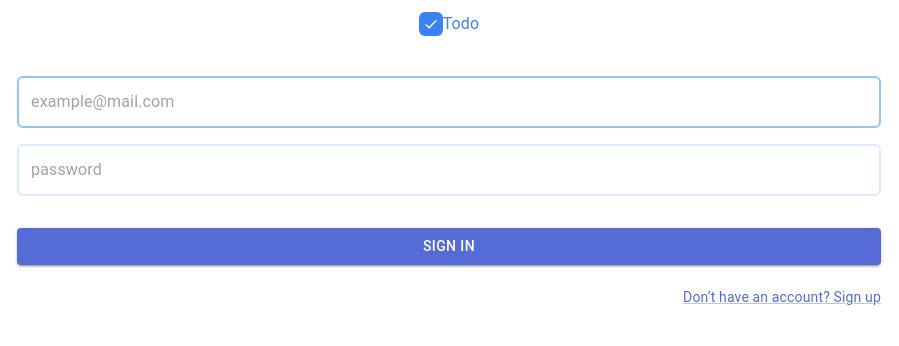
it: Signin form › validation of inputs › should display matching error when password is invalid
The width and height of the screenshot is (899, 346).
Type "ali-han80@hotmail.com" into the field at point(449, 102), box [31,86,867,118]
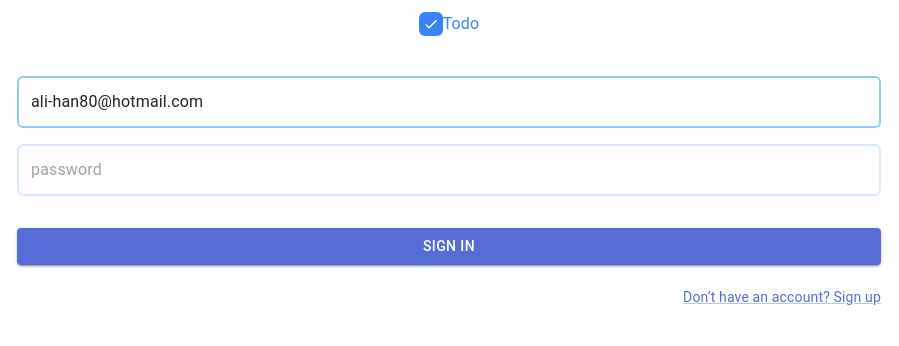
Type "pass" into the password field with placeholder "password" at point(449, 170), box [31,154,867,186]
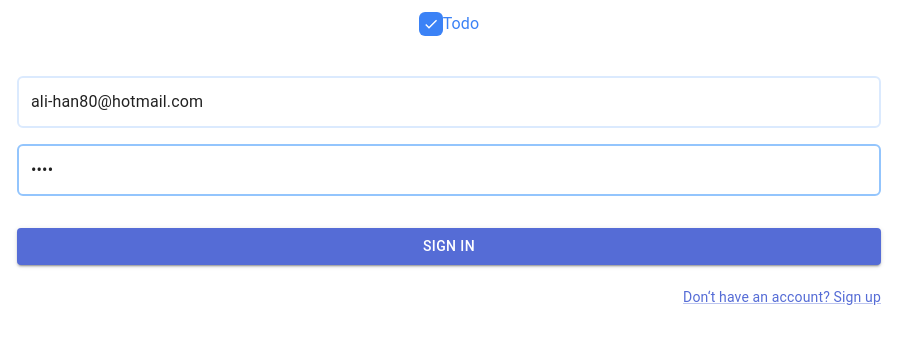
Click the button "Sign in" at point(449, 246), box [17,228,881,264]
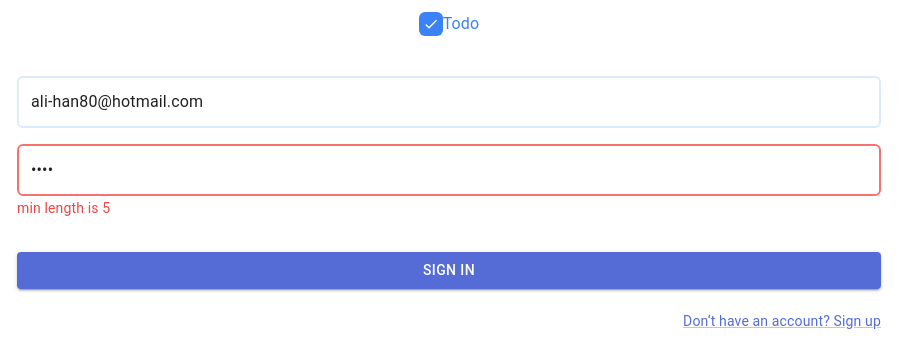
Now the message reads "min length is 5", box [17,200,110,216]
